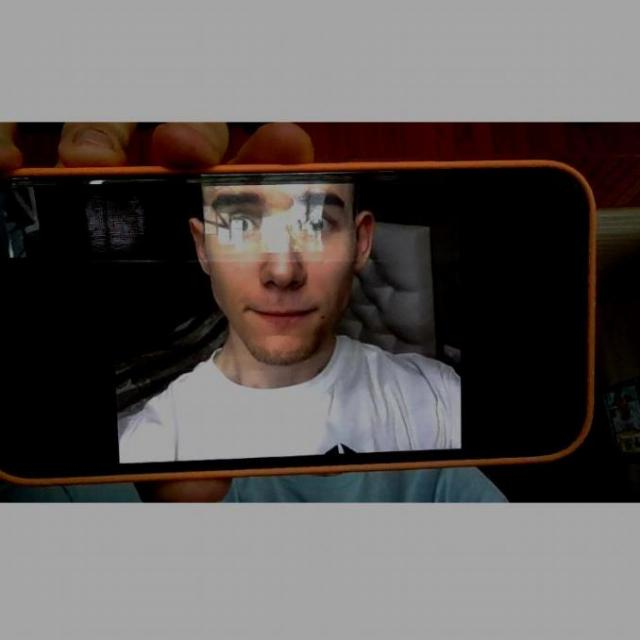device: (0, 167, 592, 473)
